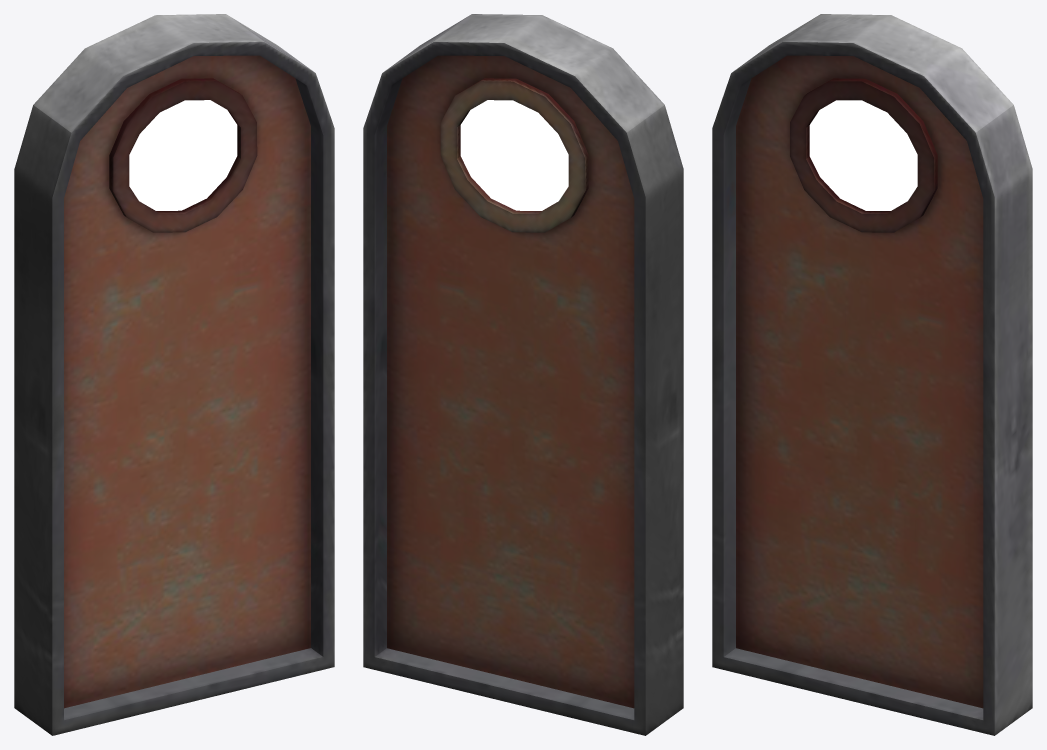
File: DoorModuleSteampunk.glb
3 views of the same model, side by side, from view 1: azimuth 30°, elevation 25°; view 2: azimuth 150°, elevation 25°; view 3: azimuth 330°, elevation 25° (orthographic).
Parts seen in each view (by area): view 1: Door; view 2: Door; view 3: Door.
Boxes of the visible parts, x1,y1,x2,y2 form: Door: (14,14,334,735); Door: (363,14,683,735); Door: (712,14,1032,735).
Size of what is drawn, in the model's own units: 1.75 by 3.9 by 0.4101.
1 material, 1 textured.
